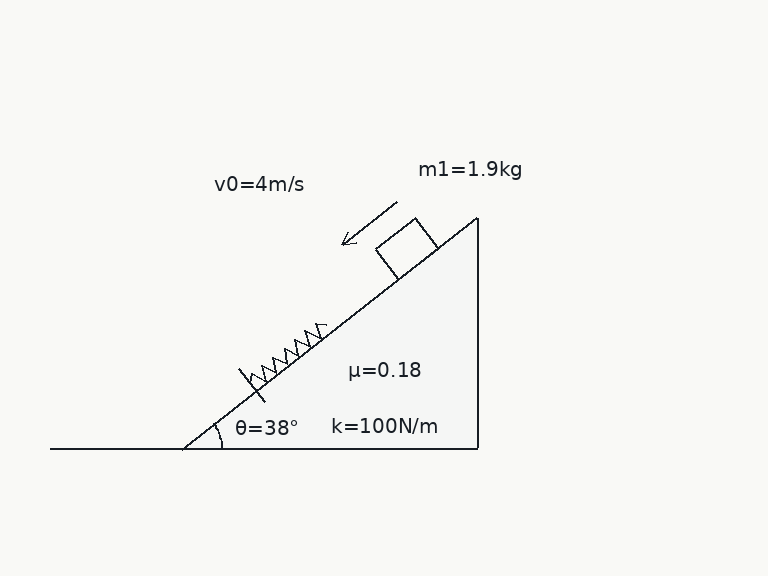block: (373, 216, 440, 281)
ramp: (180, 216, 479, 450)
spring: (248, 320, 329, 385)
